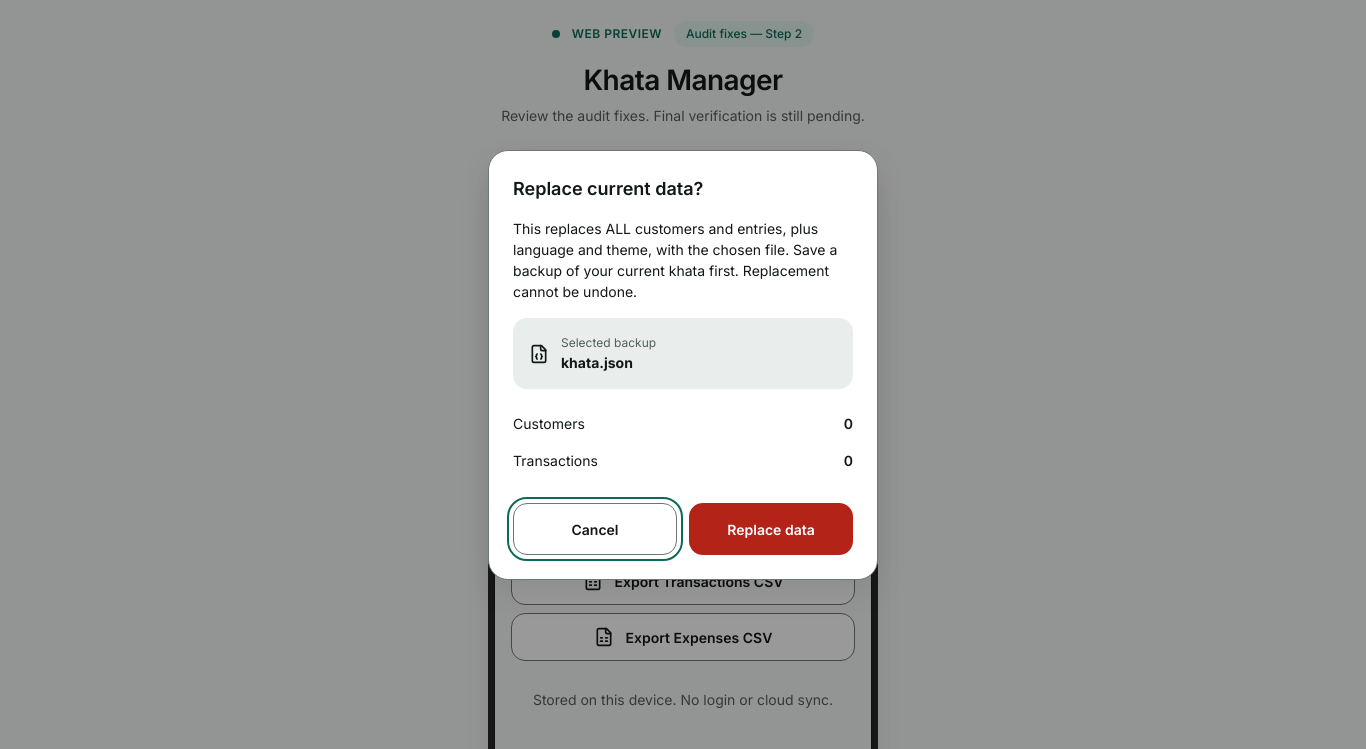
backup upload validates first; cancellation keeps data; confirmation replaces settings too
The width and height of the screenshot is (1366, 749).
Earlier steps of the test are not shown.
Expected: the dialog is shown, [488,150,878,580]
Click the button "Replace data".
click(771, 529)  # box [689,503,853,555]
(page scrolled)
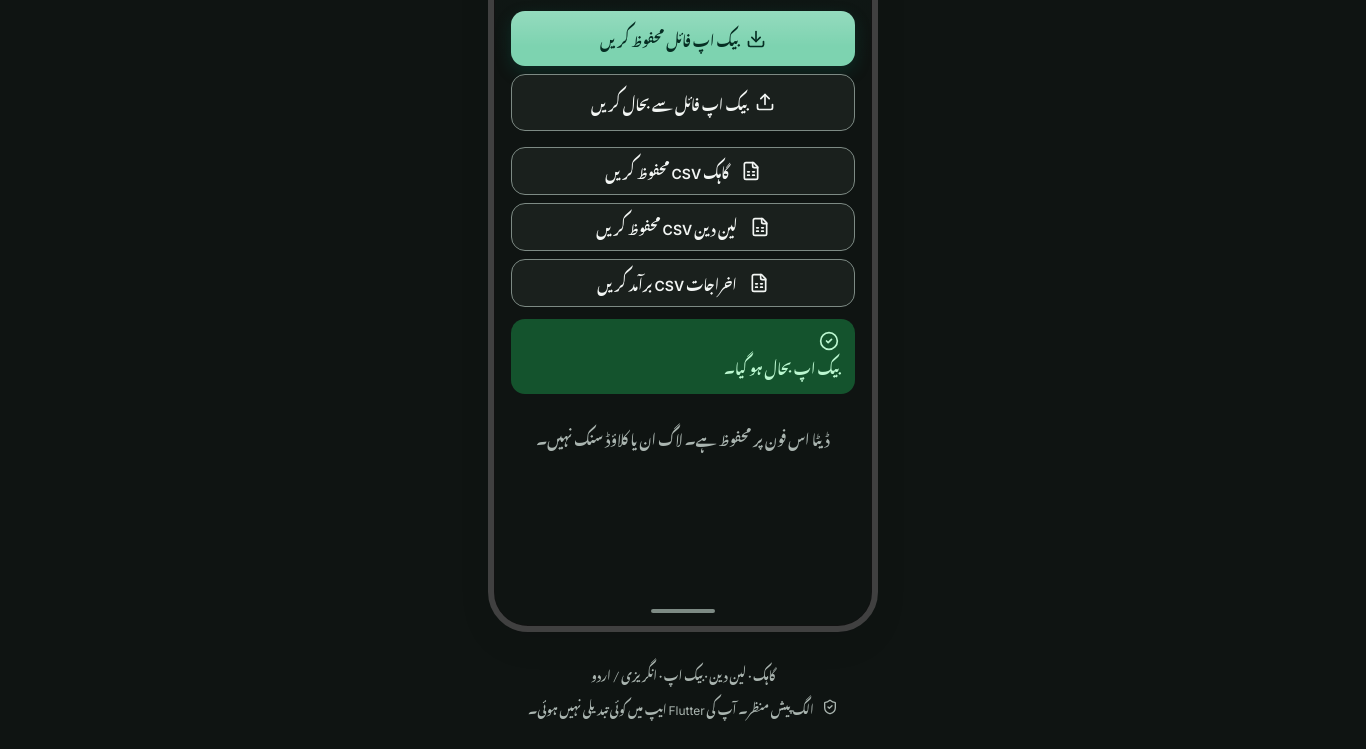
Result: the text "بیک اپ بحال ہو گیا۔" is shown at [724,348,839,383]
